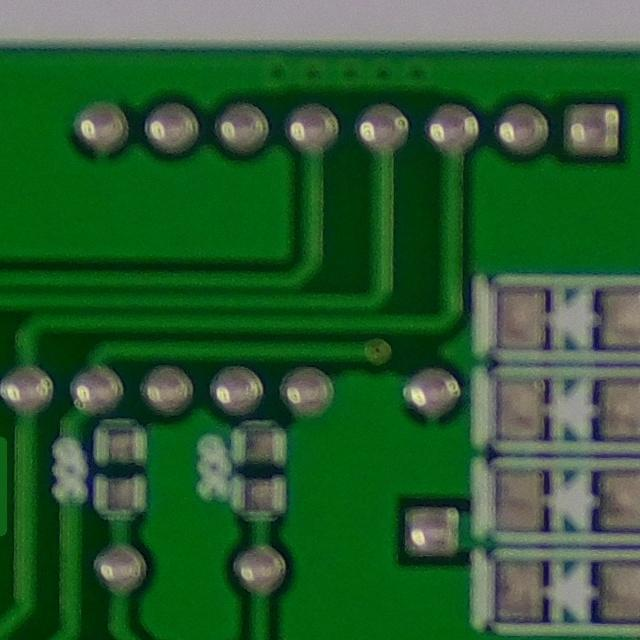spurious_copper: (0, 425, 25, 541)
